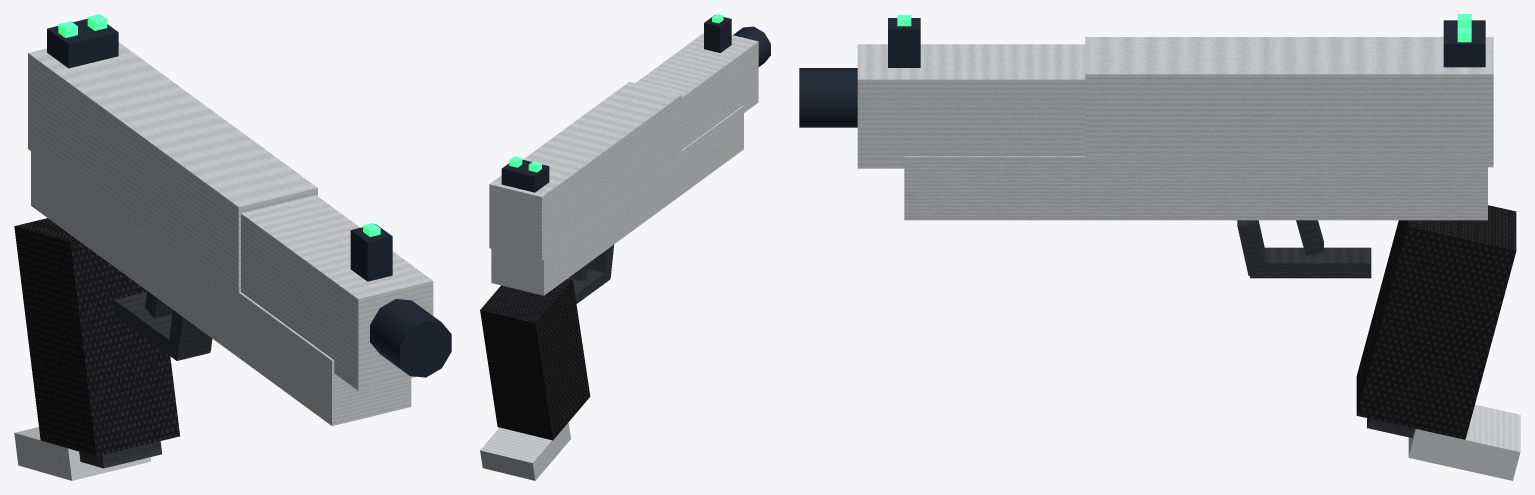
File: desert_eagle.glb
3 renders of one model, left to right at view 1: azimuth 30°, elevation 25°; view 2: azimuth 150°, elevation 25°; view 3: azimuth 270°, elevation 25°, orthographic. The views are drawn at different scales.
Visible parts, largest first — view 1: weapon_desert_eagle, SlideNode, MagazineNode; view 2: weapon_desert_eagle, SlideNode, MagazineNode; view 3: weapon_desert_eagle, SlideNode, MagazineNode.
Boxes of the visible parts, x1,y1,x2,y2 form: weapon_desert_eagle: (14, 140, 451, 456); SlideNode: (28, 14, 392, 298); MagazineNode: (14, 427, 161, 480); weapon_desert_eagle: (480, 26, 770, 440); SlideNode: (489, 14, 731, 260); MagazineNode: (480, 422, 570, 480); weapon_desert_eagle: (799, 44, 1516, 439); SlideNode: (888, 14, 1493, 167); MagazineNode: (1367, 404, 1520, 480).
Size of the model in its own units: 0.04 by 0.2103 by 0.309.
5 materials, 3 textured.
